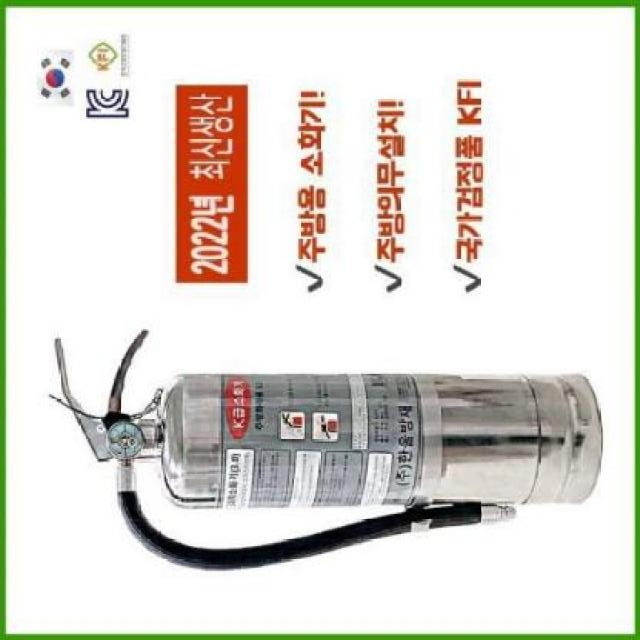fire extinguisher: (53, 327, 604, 570)
